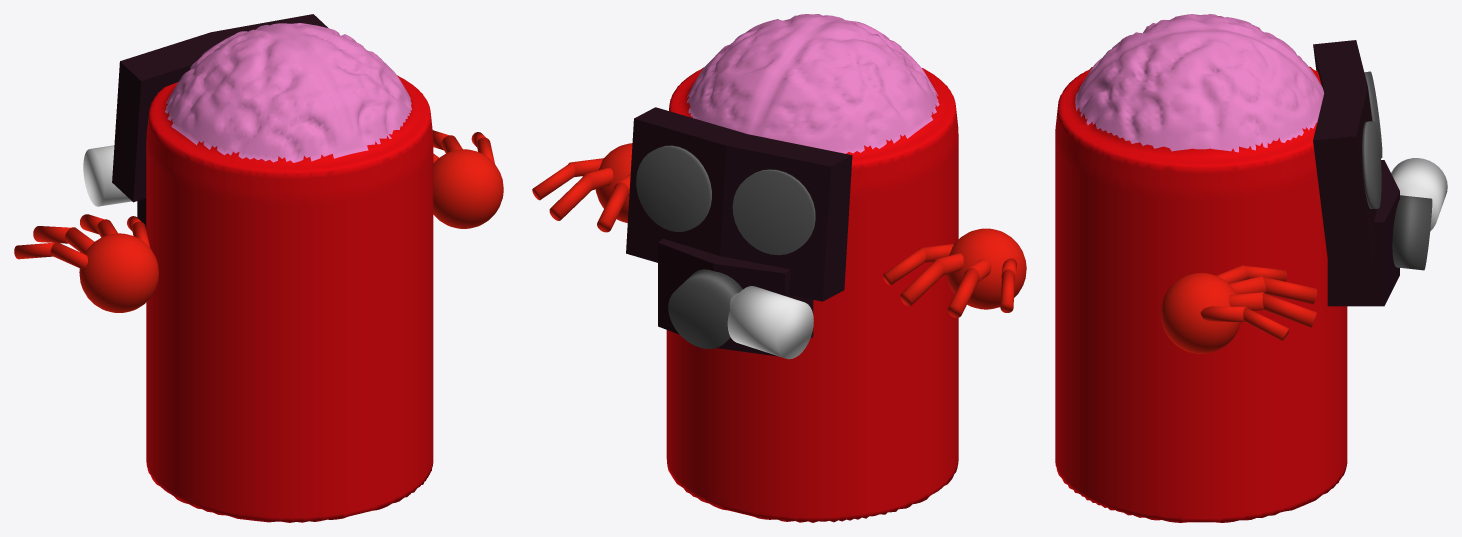
File: zombie.fbx
3 renders of one model, left to right at view 1: azimuth 30°, elevation 25°; view 2: azimuth 150°, elevation 25°; view 3: azimuth 270°, elevation 25°, orthographic.
Parts seen in each view (by area): view 1: Body.001, LeftHand.003, Mask, LeftHand.001, Cylinder; view 2: Body.001, Mask, LeftHand.003, Cylinder, LeftHand.001; view 3: Body.001, Mask, LeftHand.001, Cylinder.
Part boxes in pixels (x1,y1,x2,y2): Body.001: (146,23,433,522); LeftHand.003: (14,214,158,312); Mask: (112,14,328,228); LeftHand.001: (432,130,503,228); Cylinder: (83,145,131,206); Body.001: (666,14,958,522); Mask: (626,107,852,356); LeftHand.003: (883,228,1026,317); Cylinder: (727,286,813,359); LeftHand.001: (532,143,632,232); Body.001: (1055,14,1347,522); Mask: (1313,40,1432,306); LeftHand.001: (1160,265,1317,353); Cylinder: (1391,158,1447,230).
Size of the model in its own units: 3.79 by 3.27 by 2.68.
